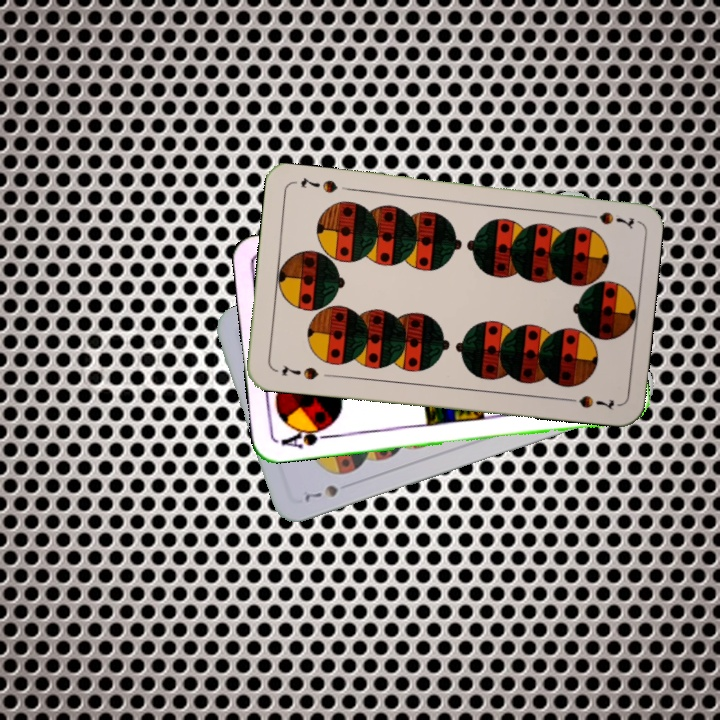S7: (578, 207, 637, 231), (300, 481, 341, 505), (278, 361, 321, 383)
SA: (277, 421, 336, 451)
